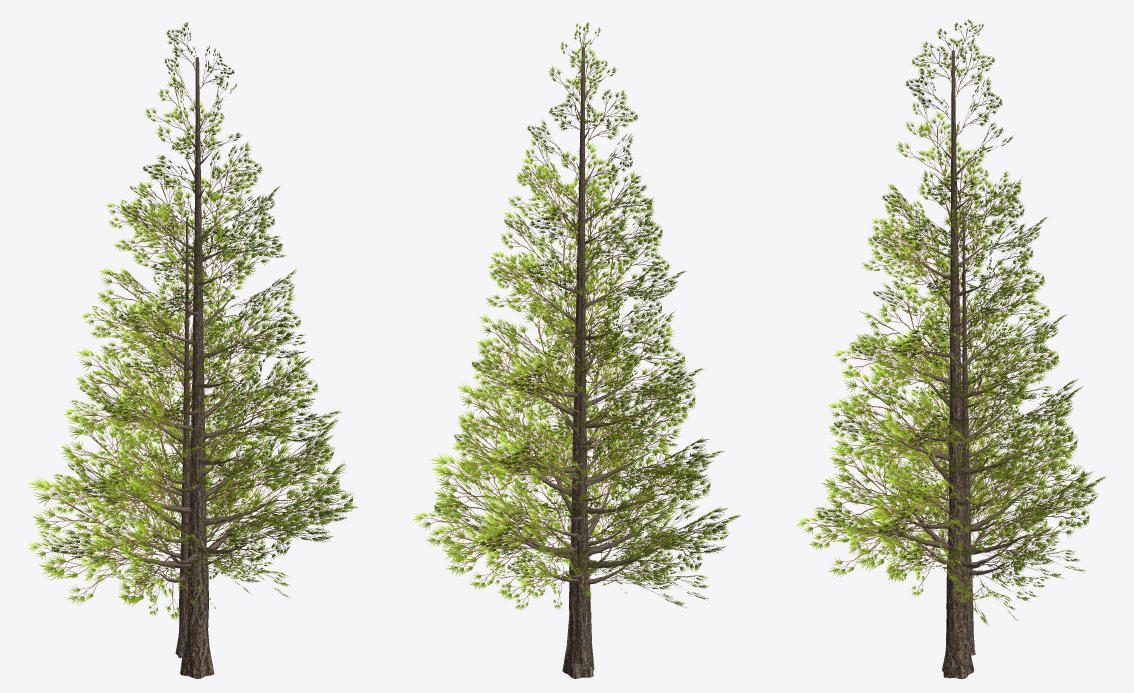
The model's file is Pine.fbx.
The picture shows the model from 3 angles, left to right: view 1: azimuth 30°, elevation 25°; view 2: azimuth 150°, elevation 25°; view 3: azimuth 270°, elevation 25°; orthographic projection.
Parts seen in each view (by area): view 1: Group2, Group1; view 2: Group2, Group1; view 3: Group2, Group1.
Part boxes in pixels (left/top/right/bottom): Group2: left=28, top=22, right=358, bottom=678; Group1: left=93, top=195, right=273, bottom=658; Group2: left=412, top=21, right=740, bottom=678; Group1: left=482, top=200, right=682, bottom=664; Group2: left=796, top=19, right=1106, bottom=678; Group1: left=873, top=188, right=1060, bottom=655.
Bounding box in the file's own units: 11.54 × 22.66 × 10.52.
